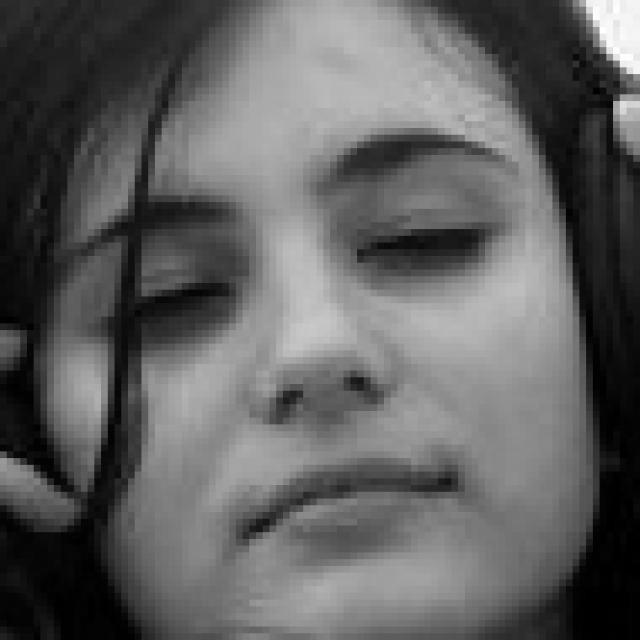real: (30, 5, 602, 631), (96, 172, 522, 345)
